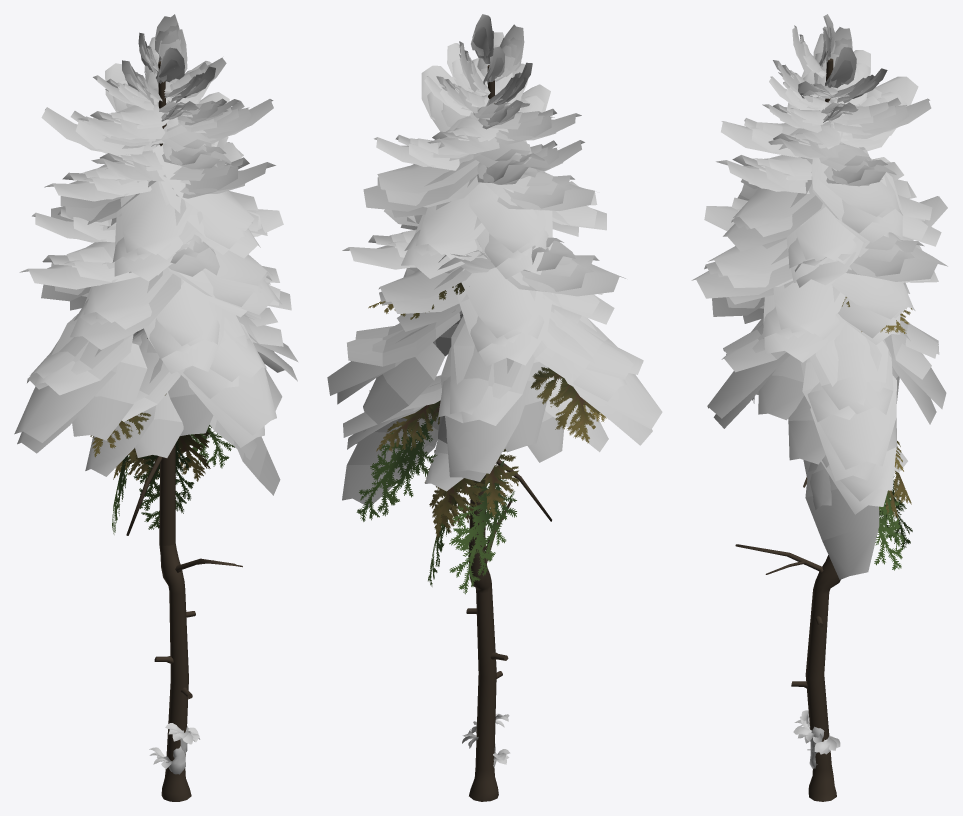
File: Fir_Gr+Ân.L.A.X3.fbx
3 views of the same model, side by side, from view 1: azimuth 30°, elevation 25°; view 2: azimuth 150°, elevation 25°; view 3: azimuth 270°, elevation 25° (orthographic).
Visible parts, largest first — view 1: Fir_Grön_L_A_X3; view 2: Fir_Grön_L_A_X3; view 3: Fir_Grön_L_A_X3.
Part boxes in pixels (x1,y1,x2,y2): Fir_Grön_L_A_X3: [14, 14, 298, 801]; Fir_Grön_L_A_X3: [327, 14, 662, 801]; Fir_Grön_L_A_X3: [691, 14, 947, 801].
Size of the model in its own units: 629 by 1565 by 470.
